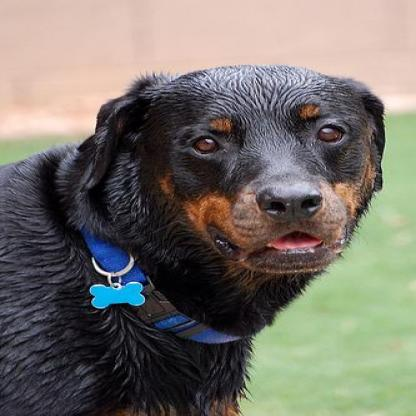Rottweiler: (0, 62, 387, 413)
